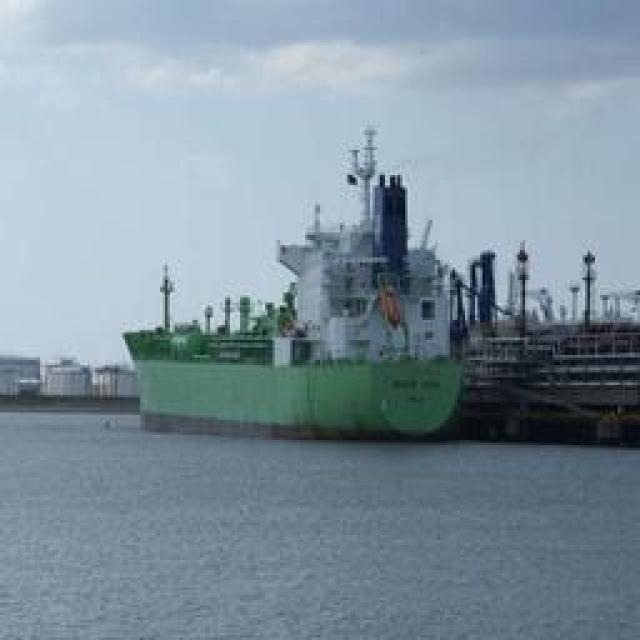CIV_Ship: (125, 118, 603, 438)
